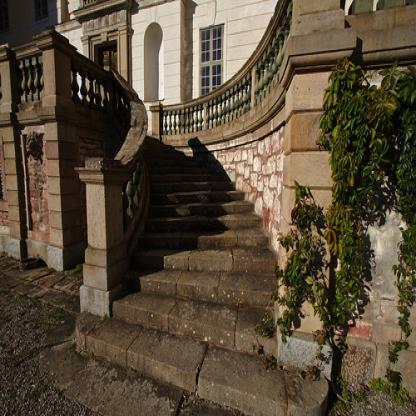stairs: (144, 225, 268, 413)
